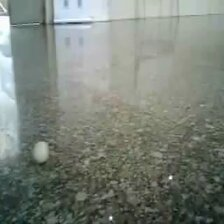w: (31, 140, 52, 164)
